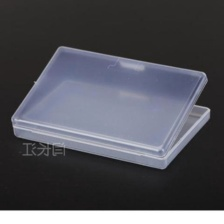plastic_box: (5, 39, 217, 174)
